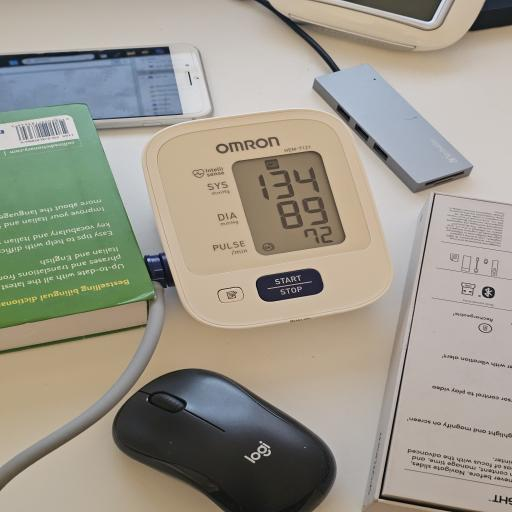blood pressure monitor: (139, 107, 394, 331)
